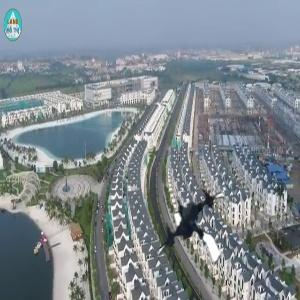drone: (148, 187, 244, 283)
